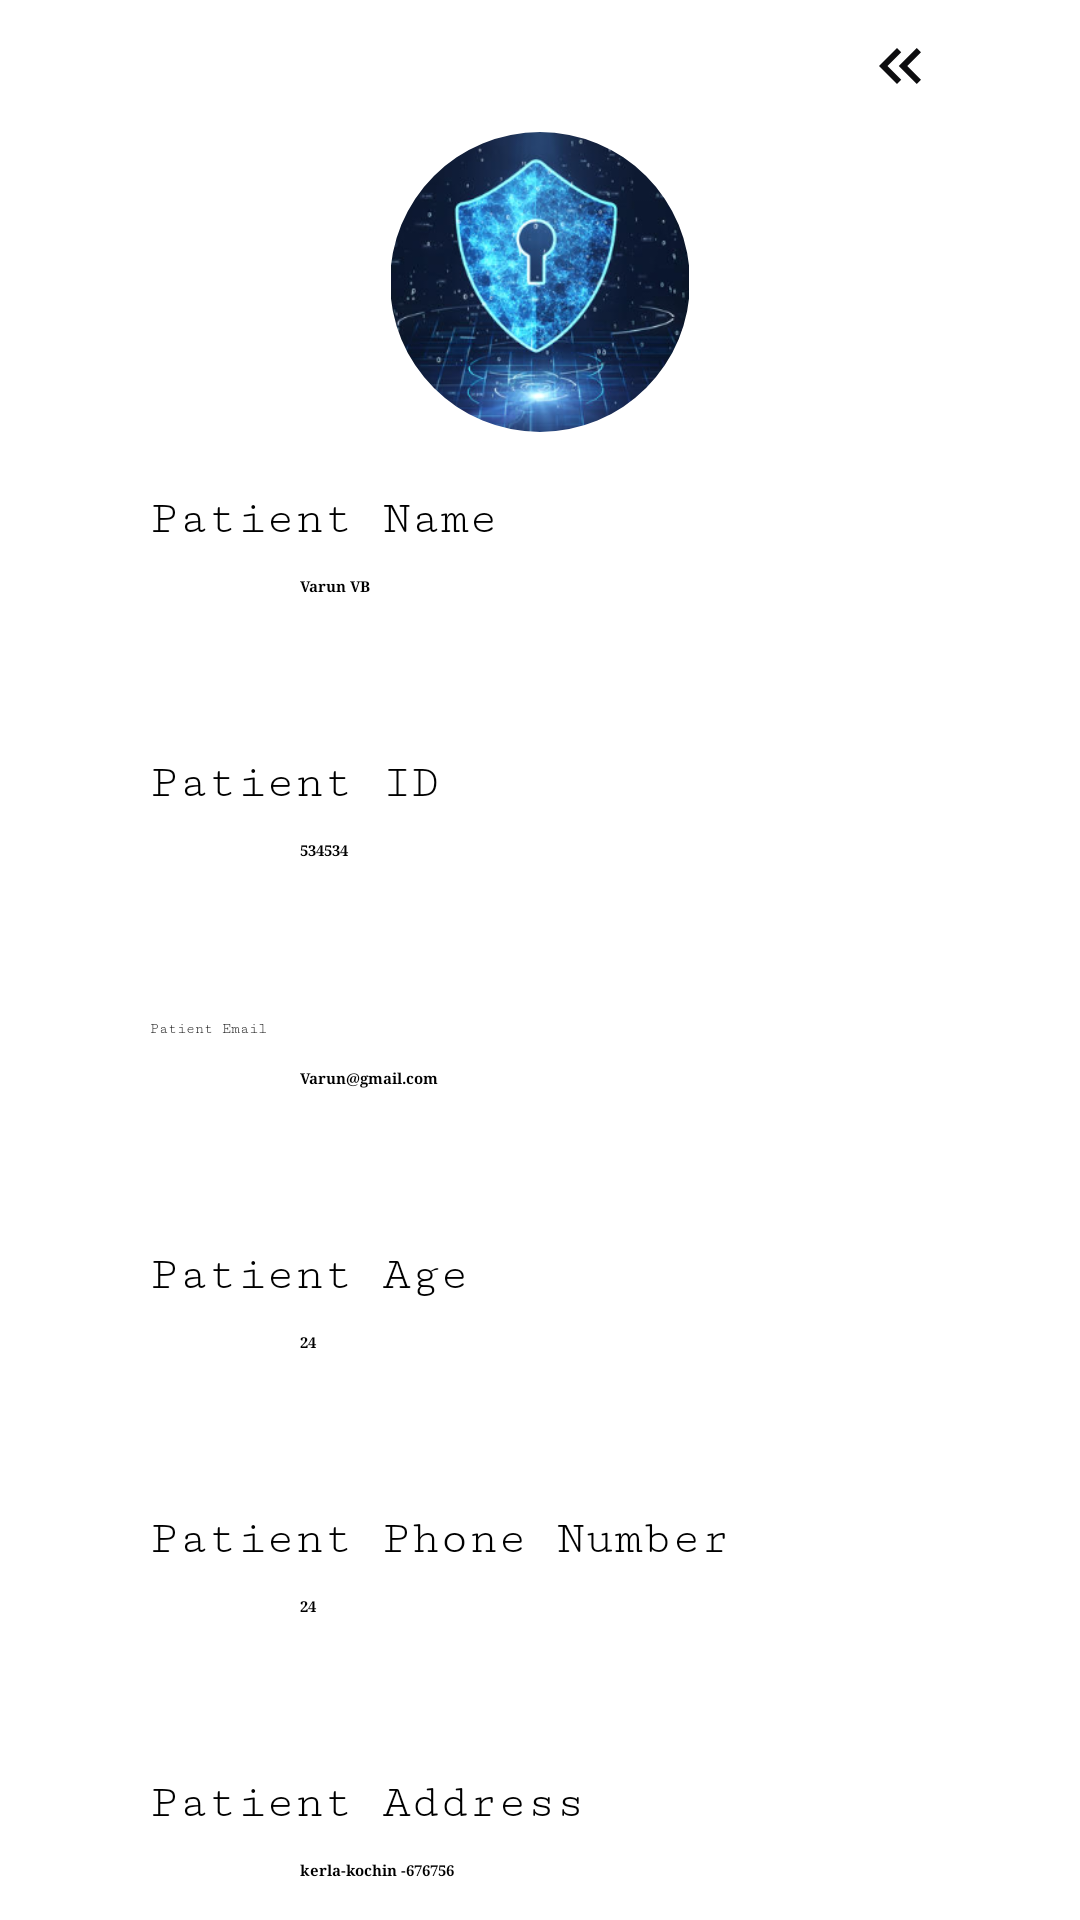

Screen size 1080×1920. Icon name, then its center in pixels as (x,y):
keyboard double arrow left: (900,66)
